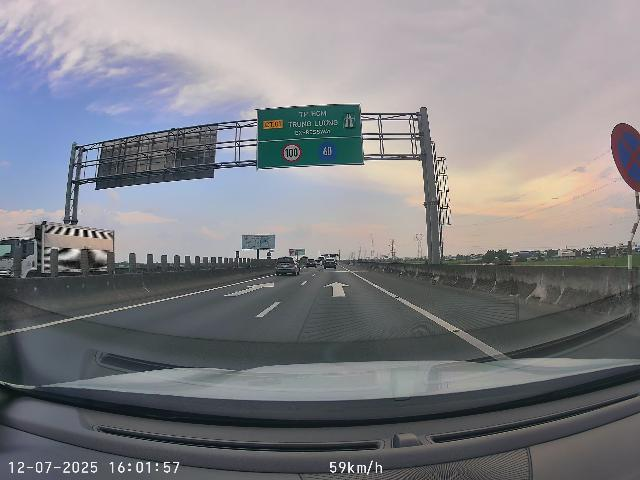127-toc-do-toi-da-100: (281, 143, 302, 163)
130-cam-dung-va-do-xe: (611, 122, 640, 192)
306-toc-do-toi-thieu-60: (318, 141, 338, 161)
437-bat-dau-duong-cao-toc: (342, 112, 356, 129)
